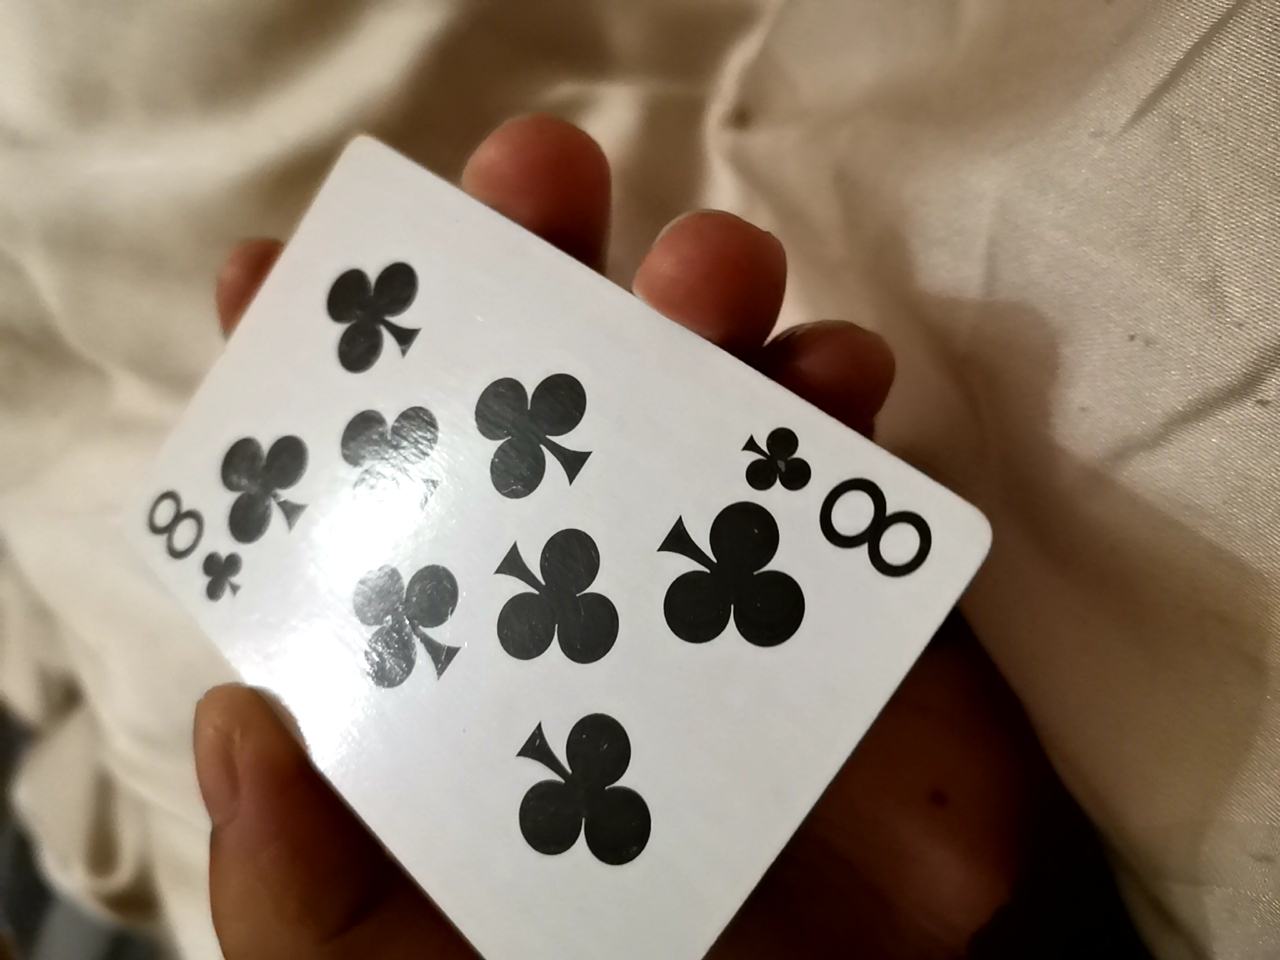mh 8: (77, 101, 1002, 955)
